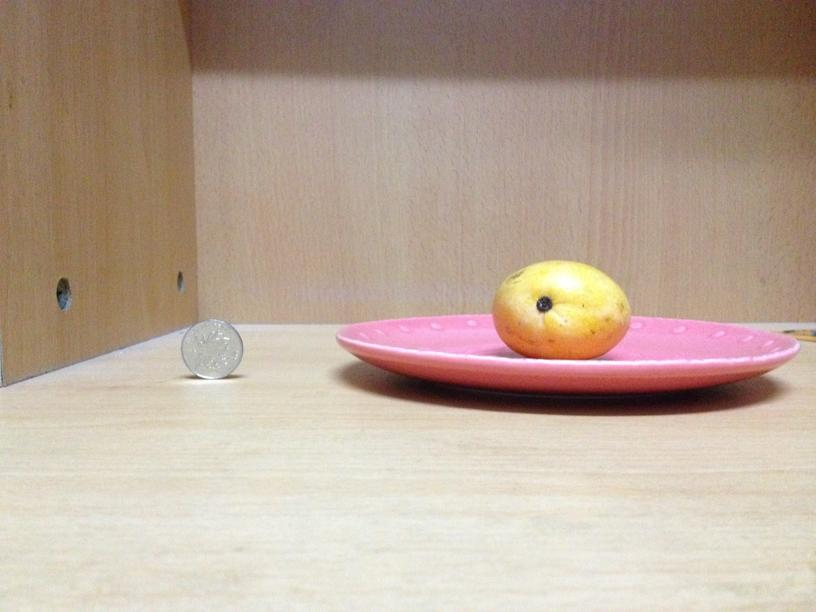coin: (181, 317, 242, 378)
mango: (494, 261, 628, 359)
